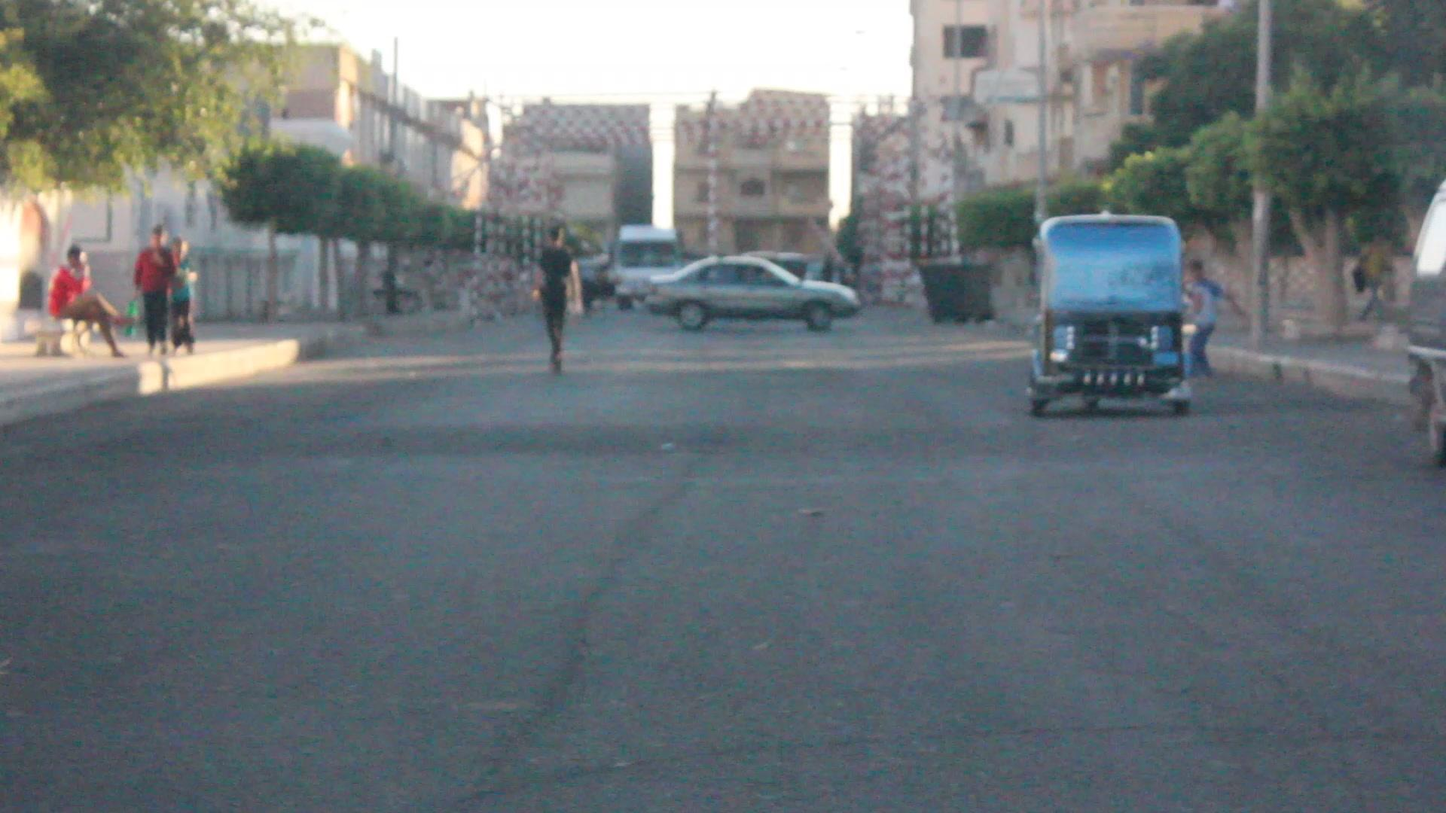Bump: (2, 399, 1445, 470)
